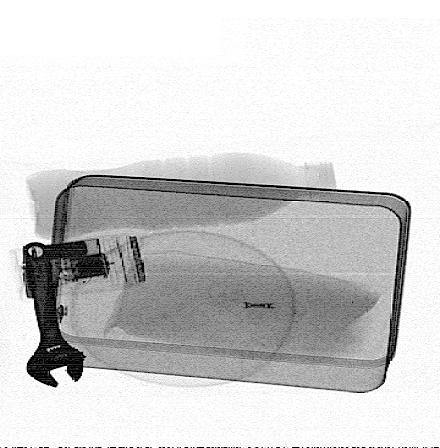Wrench: (20, 239, 86, 390)
